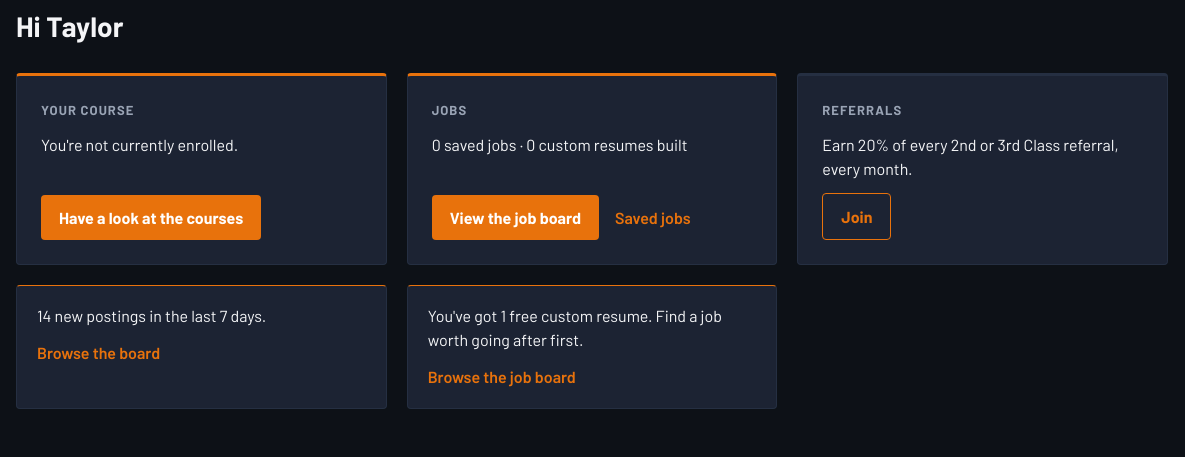
Test: HomePage › Join flips the card to the referral link
Expected: the text "Earn 20% of every 2nd or 3rd Class referral, every month." is shown, [822, 133, 1143, 181]
Click the button "Join" at (857, 216), box [822, 193, 891, 240]
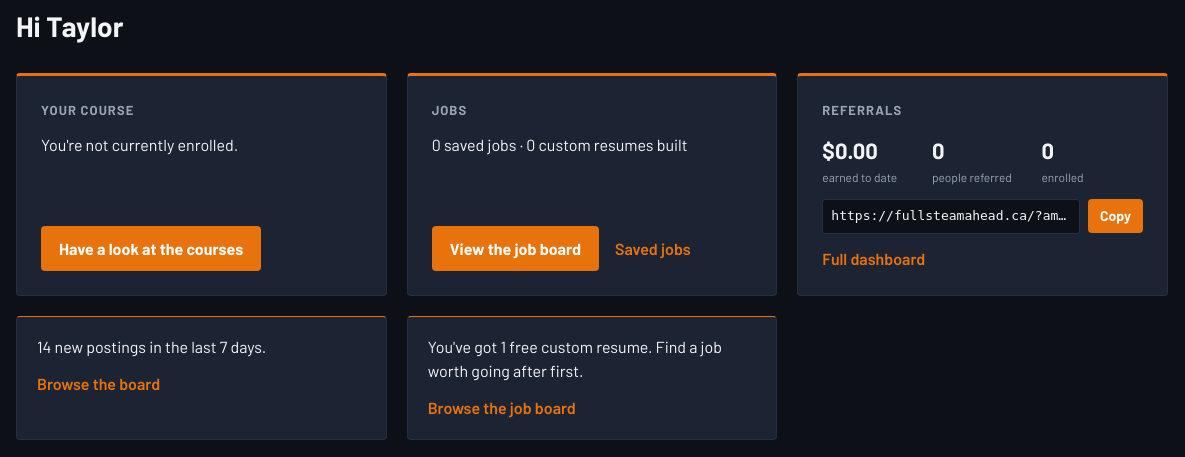
Expected: the text "https://fullsteamahead.ca/?am_id=TAY1" is shown, [822, 199, 1080, 234]
